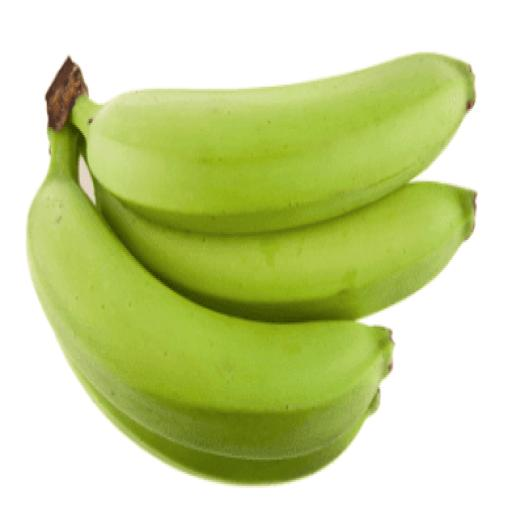banana-unripe: (9, 32, 485, 497)
